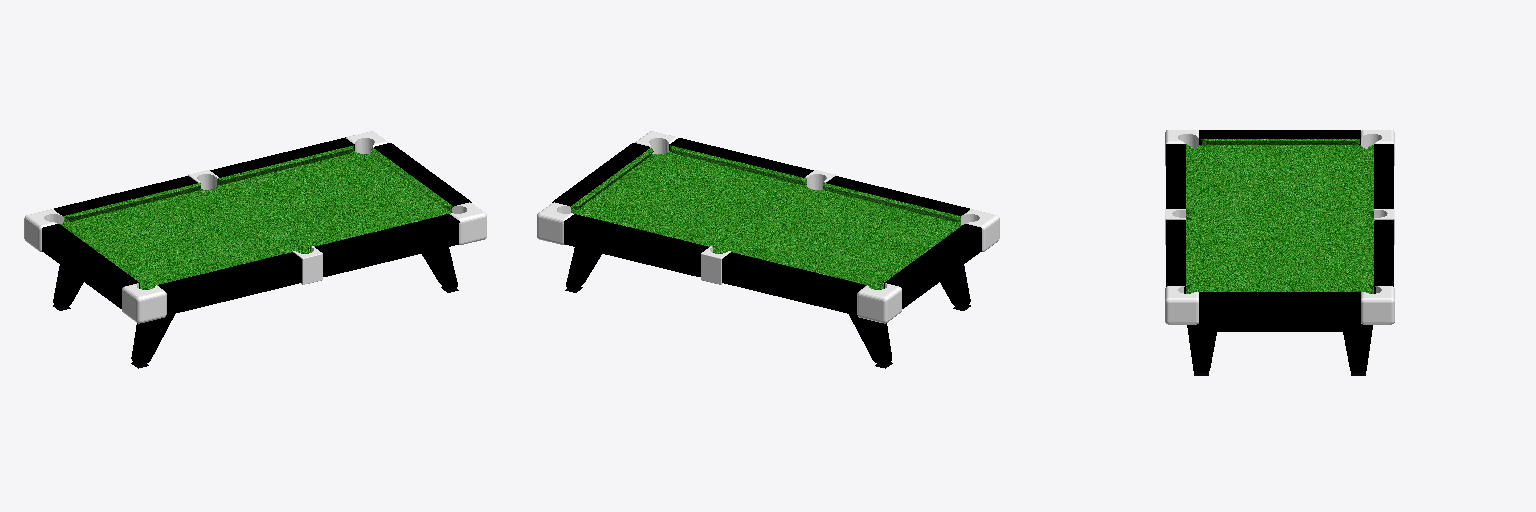
3 renders of one model, left to right at view 1: azimuth 30°, elevation 25°; view 2: azimuth 150°, elevation 25°; view 3: azimuth 270°, elevation 25°, orthographic.
Parts seen in each view (by area): view 1: M-Plane, Outer_Edges, Pockets, Inner_Edges, Table_Legs; view 2: M-Plane, Outer_Edges, Pockets, Inner_Edges, Table_Legs; view 3: M-Plane, Outer_Edges, Pockets, Table_Legs, Inner_Edges.
Part boxes in pixels (x1,y1,x2,y2): M-Plane: (63,151,452,289); Outer_Edges: (42,137,471,314); Pockets: (24,131,486,323); Inner_Edges: (60,145,452,285); Table_Legs: (53,247,457,364); M-Plane: (571,151,960,289); Outer_Edges: (552,138,981,315); Pockets: (537,131,999,323); Inner_Edges: (571,145,961,285); Table_Legs: (566,247,970,364); M-Plane: (1186,145,1373,293); Outer_Edges: (1166,130,1393,323); Pockets: (1165,130,1394,324); Table_Legs: (1187,324,1372,372); Inner_Edges: (1186,139,1373,291).
Size of the model in its own units: 3.02 by 0.6909 by 1.71.
Materials: 4 (1 with a texture image).